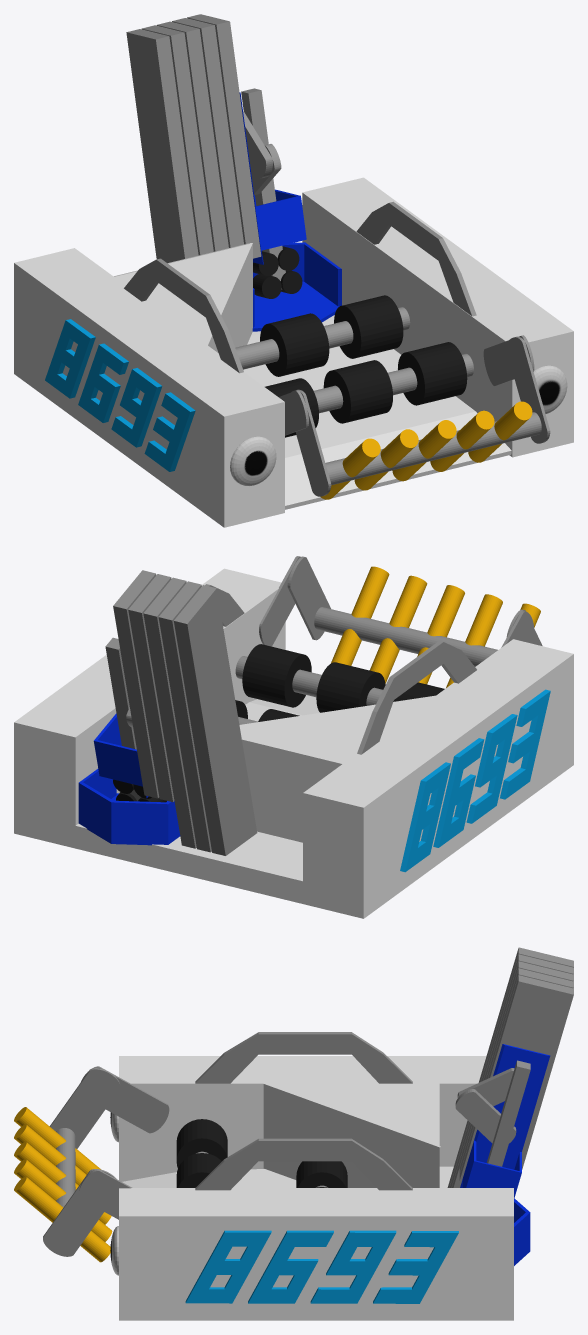
Rendered from KhepriAtHome3.glb.
The picture shows the model from 3 angles, top to bottom: view 1: azimuth 30°, elevation 25°; view 2: azimuth 150°, elevation 25°; view 3: azimuth 270°, elevation 25°; orthographic projection. The views are drawn at different scales.
Visible parts, largest first — view 1: Body, Lift1, Bucket, Lift5, Lift3, Lift2, Lift4, Handle Left, Handle Right, Roller2.001, Roller3.001, Roller3 (+23 smaller); view 2: Body, Lift1, Bucket, Lift2, Lift3, Lift4, Lift5, Handle Right, IntakeRod1.001, Roller3, Plane.007, Roller2 (+15 smaller); view 3: Body, Lift5, Handle Left, Handle Right, Deposit, Plane, Plane.002, Plane.001, Plane.003, Cylinder.001, Cylinder.003, Cylinder (+18 smaller).
Part boxes in pixels (x1,y1,x2,y2): Body: (14, 177, 573, 527); Lift1: (126, 29, 198, 263); Bucket: (252, 242, 341, 331); Lift5: (187, 14, 261, 258); Lift3: (156, 21, 228, 251); Lift2: (141, 25, 213, 255); Lift4: (172, 18, 243, 247); Handle Left: (356, 201, 476, 316); Handle Right: (124, 258, 243, 373); Roller2.001: (260, 313, 329, 376); Roller3.001: (334, 295, 403, 358); Roller3: (398, 342, 467, 405); Body: (14, 568, 573, 918); Lift1: (174, 585, 257, 855); Bucket: (78, 768, 180, 845); Lift2: (158, 581, 211, 852); Lift3: (143, 577, 196, 848); Lift4: (128, 574, 174, 802); Lift5: (113, 570, 159, 798); Handle Right: (357, 641, 476, 754); IntakeRod1.001: (314, 607, 497, 666); Roller3: (242, 644, 311, 707); Plane.007: (400, 762, 450, 872); Roller2: (316, 662, 385, 712); Body: (119, 1056, 513, 1320); Lift5: (459, 975, 573, 1181); Handle Left: (195, 1138, 412, 1190); Handle Right: (195, 1032, 412, 1083); Deposit: (460, 1044, 550, 1198); Plane: (185, 1230, 271, 1303); Plane.002: (310, 1230, 396, 1303); Plane.001: (248, 1230, 333, 1303); Plane.003: (373, 1231, 458, 1303); Cylinder.001: (49, 1068, 120, 1148); Cylinder.003: (43, 1169, 116, 1256); Cylinder: (81, 1066, 169, 1133).
Size of the model in its own units: 4.74 by 3.75 by 6.81.
Materials: 7 (2 with a texture image).
